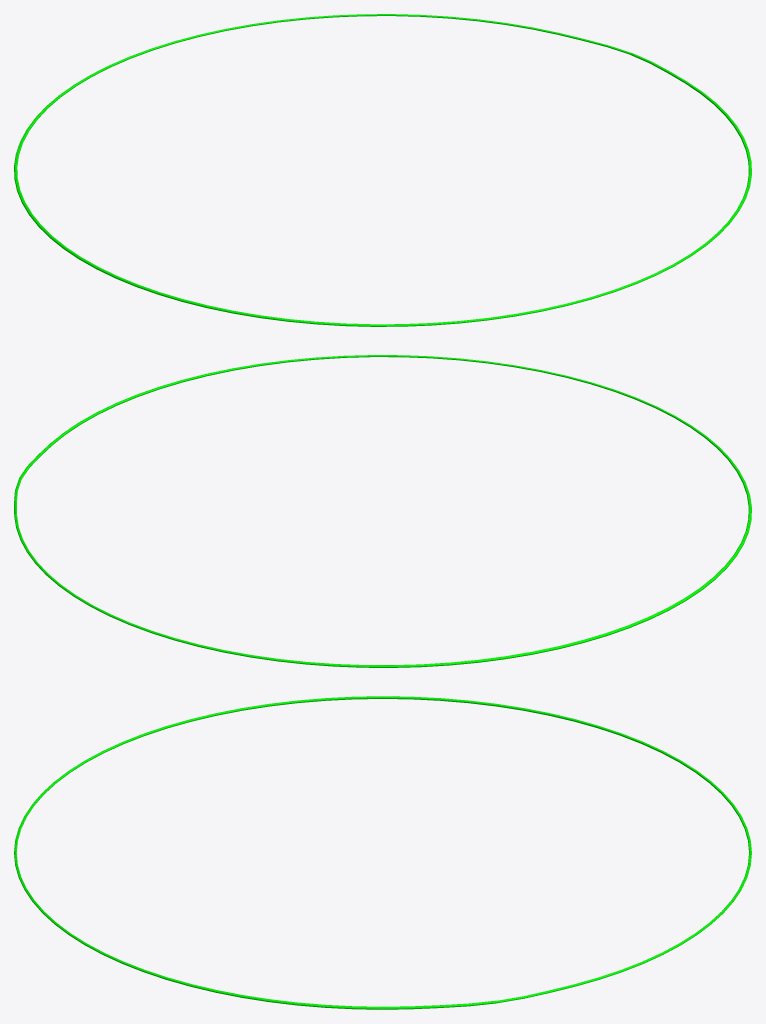
File: ringAnimated.fbx
3 views of the same model, one above another, from view 1: azimuth 30°, elevation 25°; view 2: azimuth 150°, elevation 25°; view 3: azimuth 270°, elevation 25° (orthographic).
Parts seen in each view (by area): view 1: Main; view 2: Main; view 3: Main.
Boxes of the visible parts, bbox=[...] form: Main: bbox=[14, 14, 751, 326]; Main: bbox=[14, 355, 751, 667]; Main: bbox=[14, 696, 751, 1009].
Bounding box in the file's own units: 327 × 1.17 × 327.
